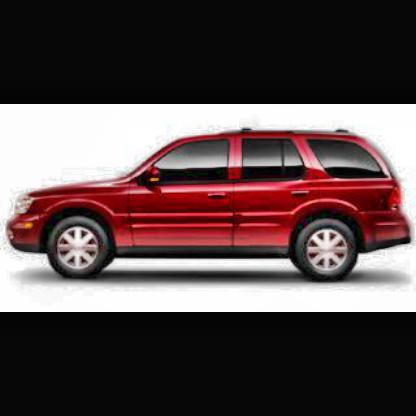Buick Rainier SUV 2007: (8, 129, 416, 285)
